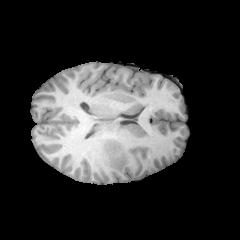glioma: (100, 126, 136, 173)
